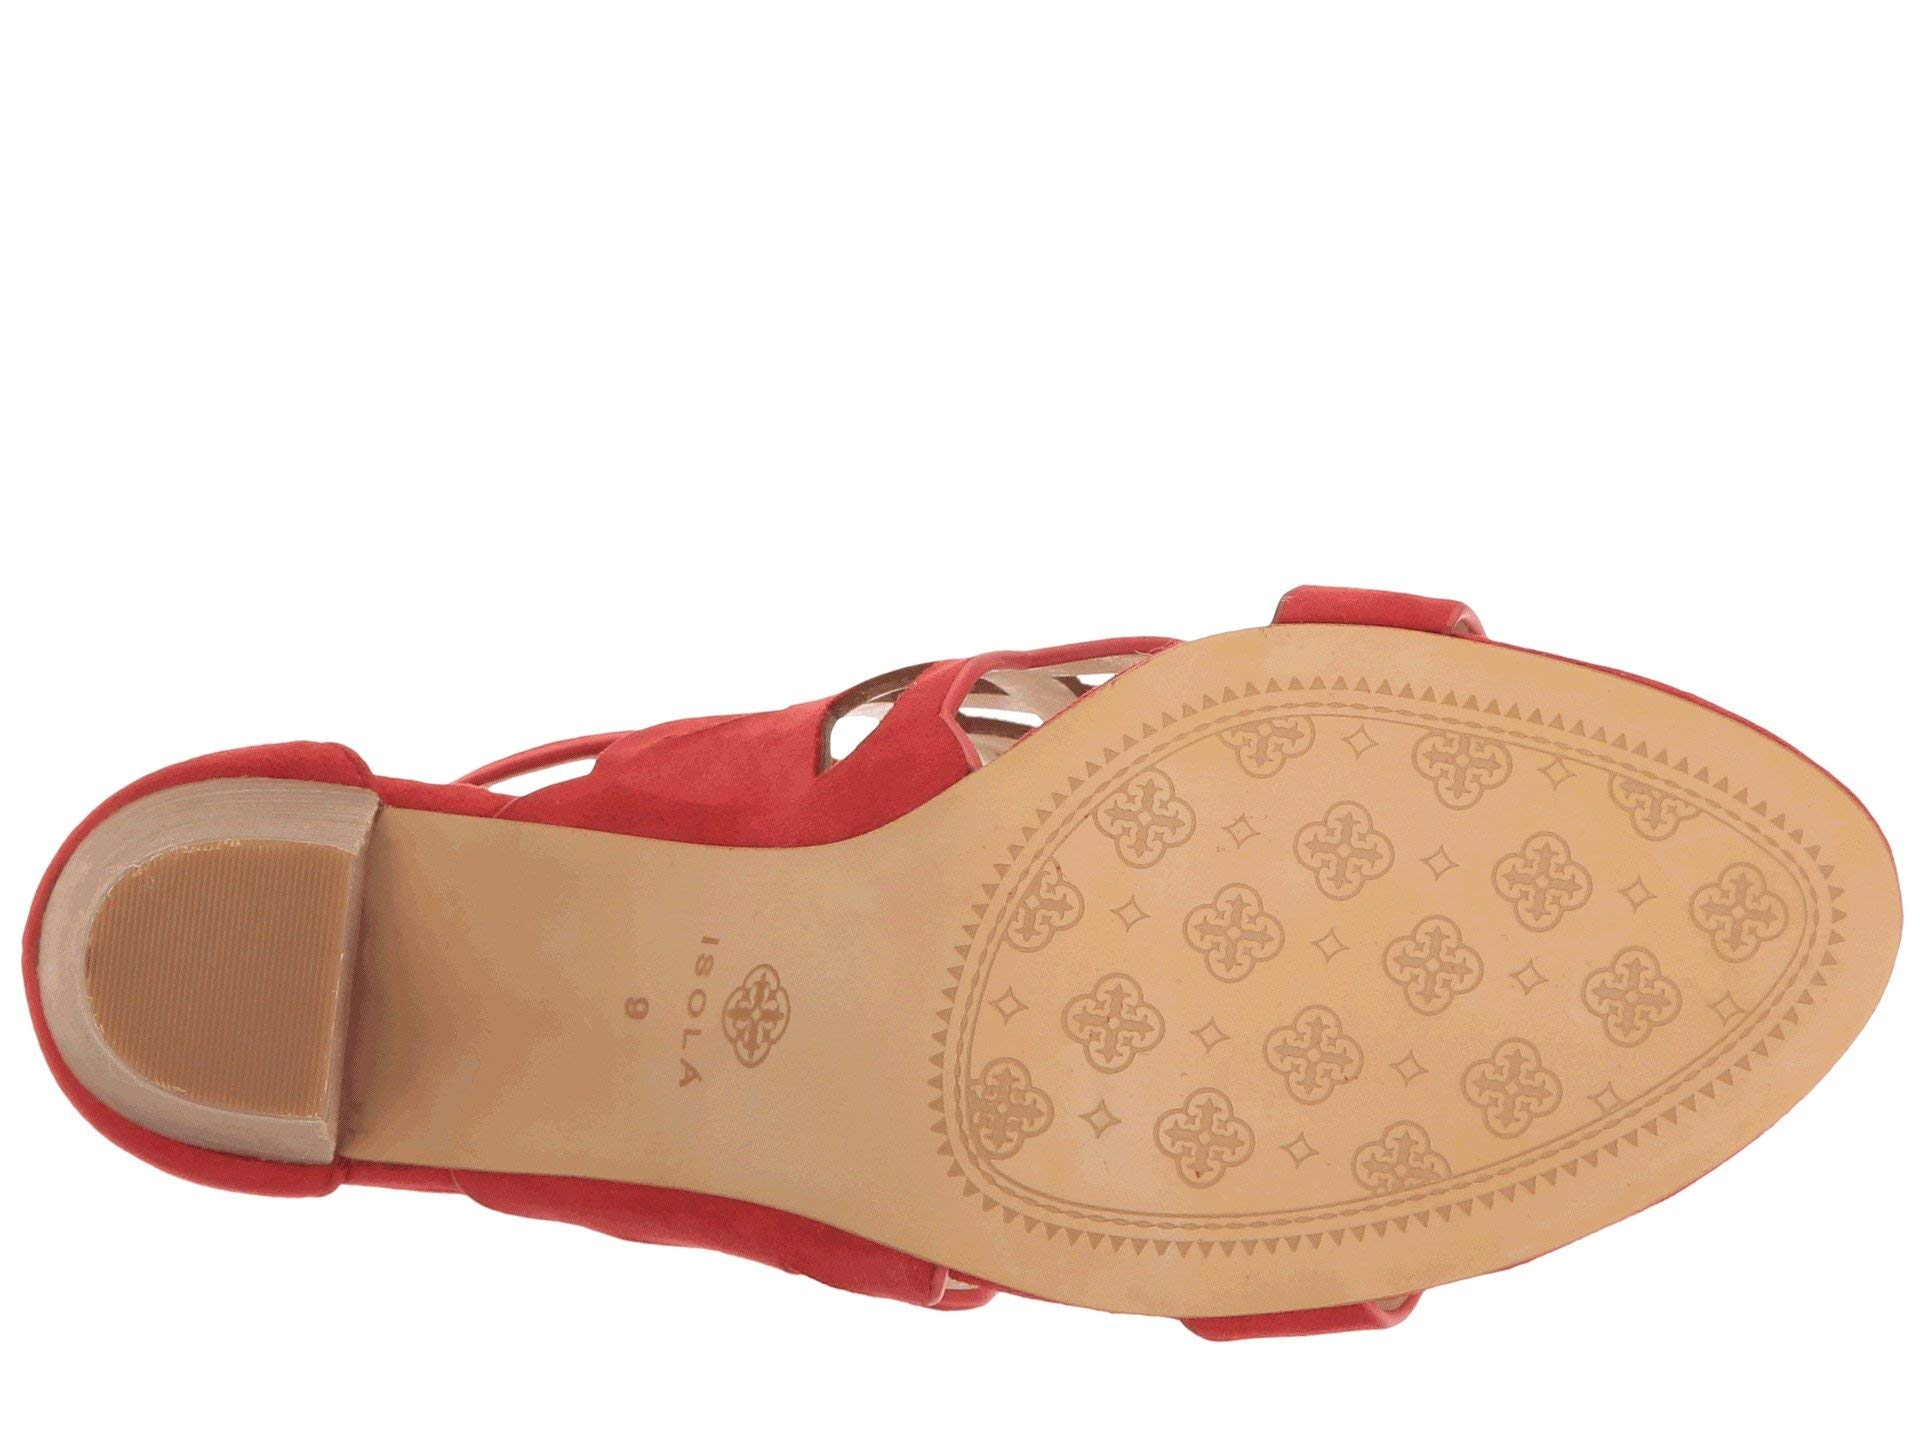quad: (1111, 812, 1513, 1150)
star: (1111, 812, 1513, 1150)
